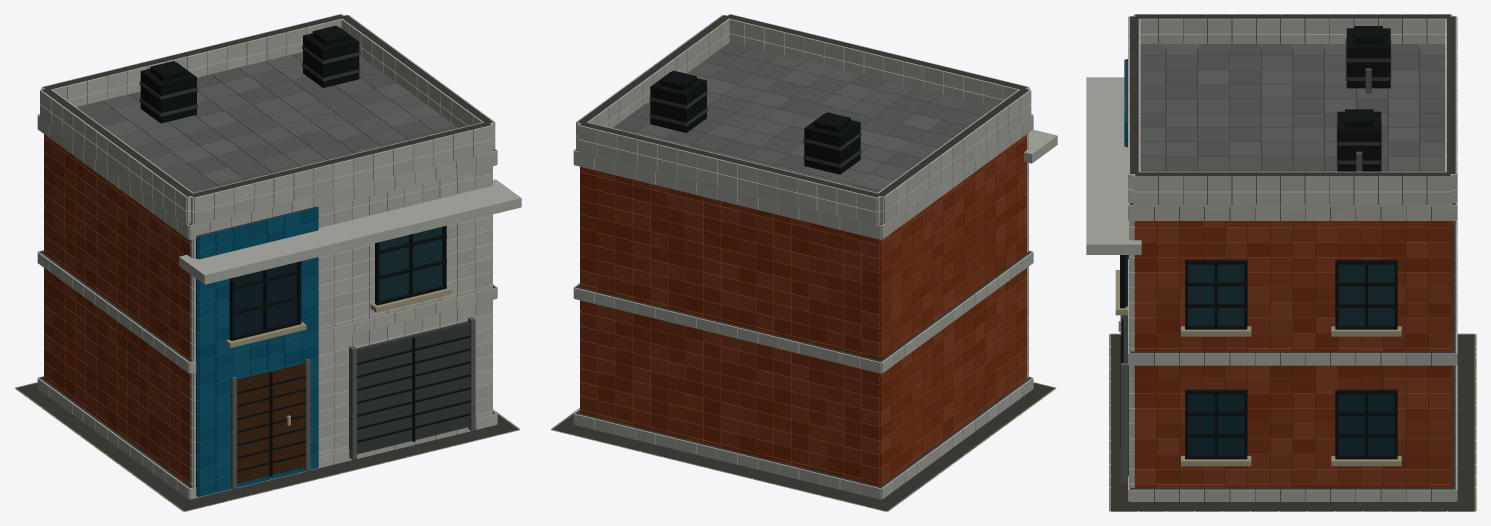
The model's file is SM_Mapa_052.fbx.
The picture shows the model from 3 angles, left to right: view 1: azimuth 30°, elevation 25°; view 2: azimuth 150°, elevation 25°; view 3: azimuth 270°, elevation 25°; orthographic projection. The views are drawn at different scales.
Parts seen in each view (by area): view 1: SM_Mapa_052; view 2: SM_Mapa_052; view 3: SM_Mapa_052.
Boxes of the visible parts, x1,y1,x2,y2 form: SM_Mapa_052: (15, 14, 521, 511); SM_Mapa_052: (551, 14, 1057, 511); SM_Mapa_052: (1086, 14, 1476, 511).
Size of the model in its own units: 8 by 7.4 by 7.47.
